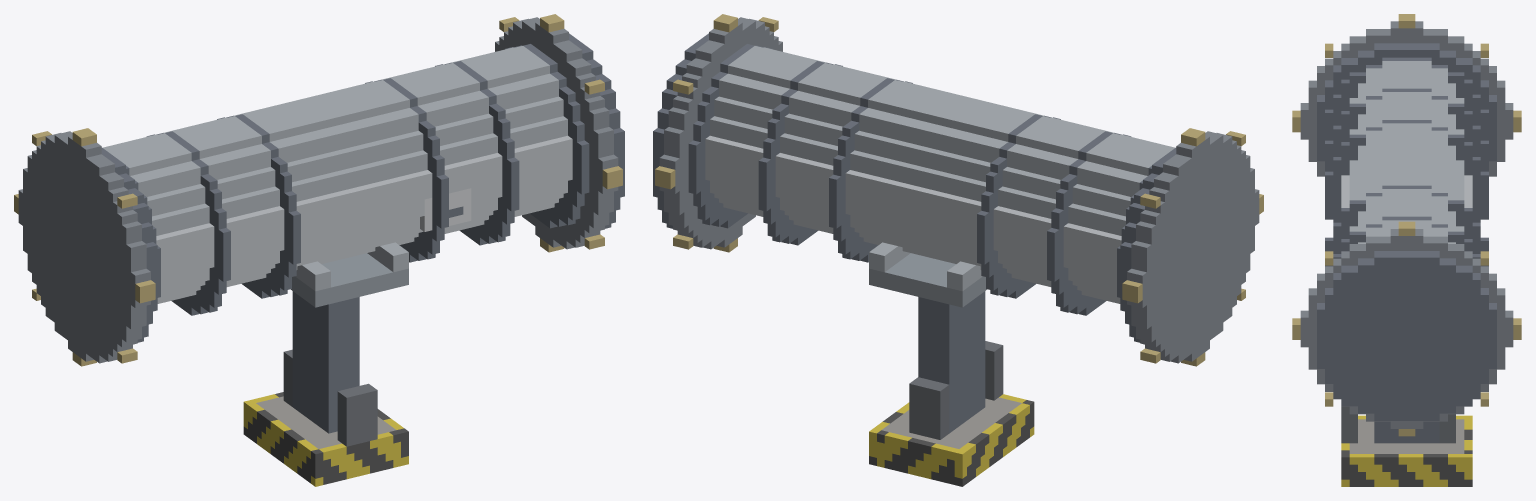
Rendered from pipe_straight.glb.
3 views of the same model, side by side, from view 1: azimuth 30°, elevation 25°; view 2: azimuth 150°, elevation 25°; view 3: azimuth 270°, elevation 25° (orthographic). The views are drawn at different scales.
Parts seen in each view (by area): view 1: pipe_straight; view 2: pipe_straight; view 3: pipe_straight.
Boxes of the visible parts, bbox=[...] form: pipe_straight: bbox=[14, 14, 624, 486]; pipe_straight: bbox=[653, 14, 1263, 486]; pipe_straight: bbox=[1292, 14, 1521, 486].
Bounding box in the file's own units: 2 × 1.44 × 0.875.
